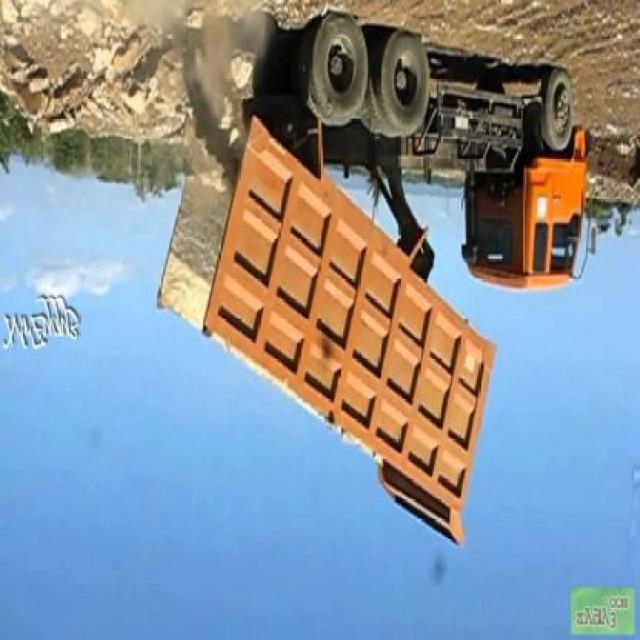truck: (160, 2, 589, 548)
